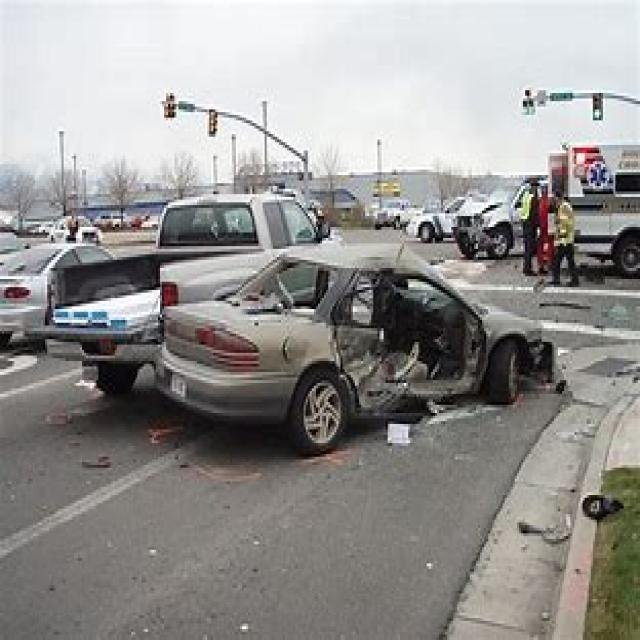Accident: (110, 115, 615, 533)
